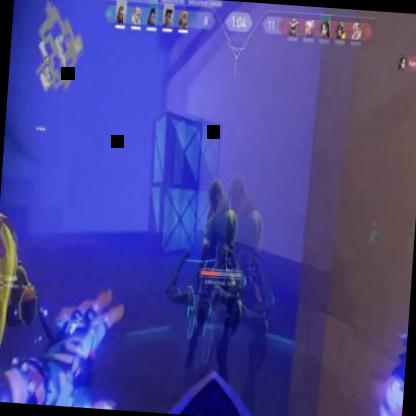enemy: (184, 172, 252, 392), (0, 202, 44, 404)
enemy_head: (206, 180, 224, 212)
